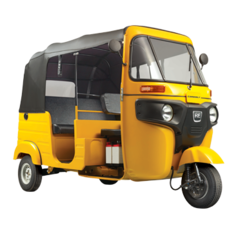auto: (12, 24, 228, 215)
